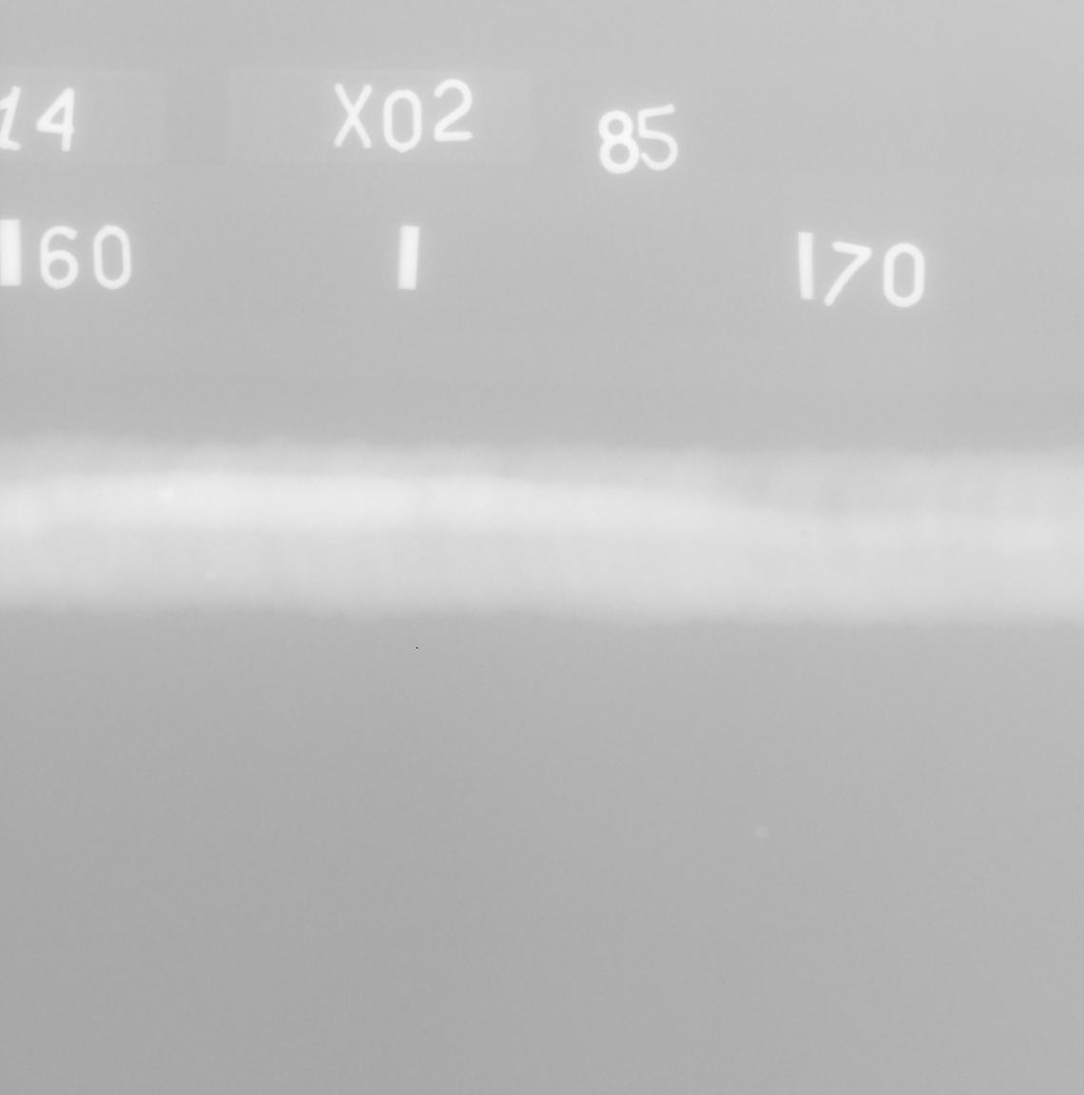Pore/Porosity: (801, 530, 811, 538), (48, 497, 52, 501)
